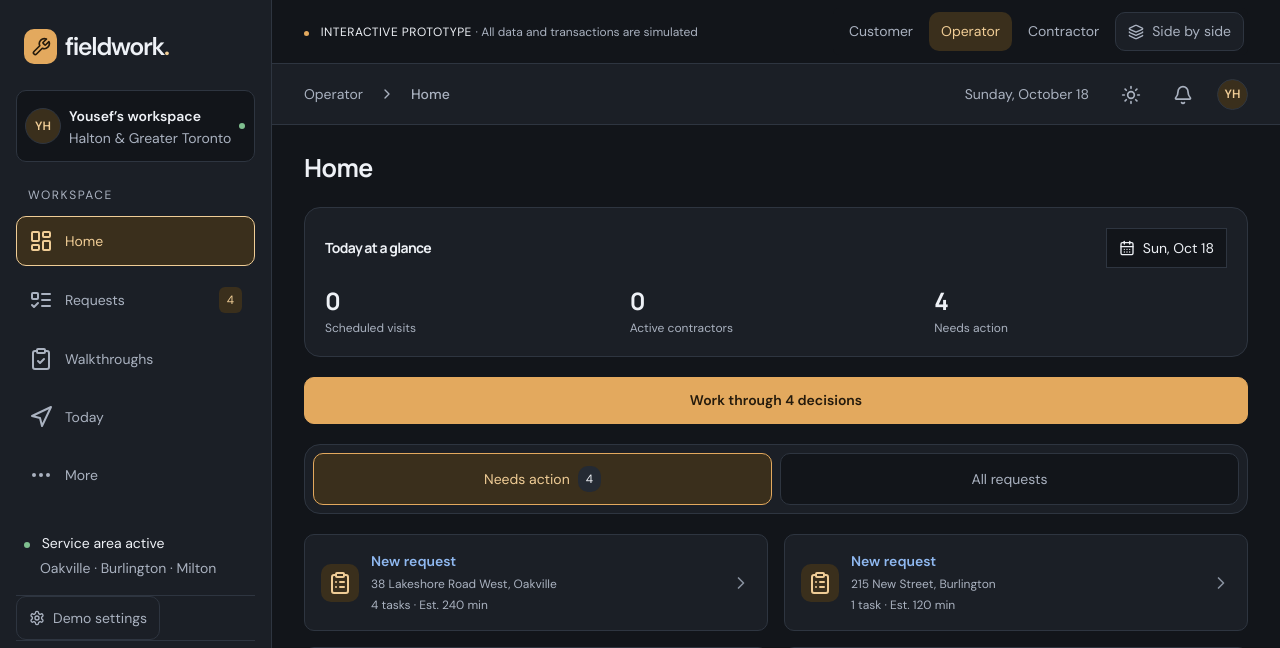
Test case: Operator workspace › moves to the next scheduled day and focuses its heading
The width and height of the screenshot is (1280, 648).
Click the button "Today". click: (136, 417)
box: [16, 392, 255, 442]
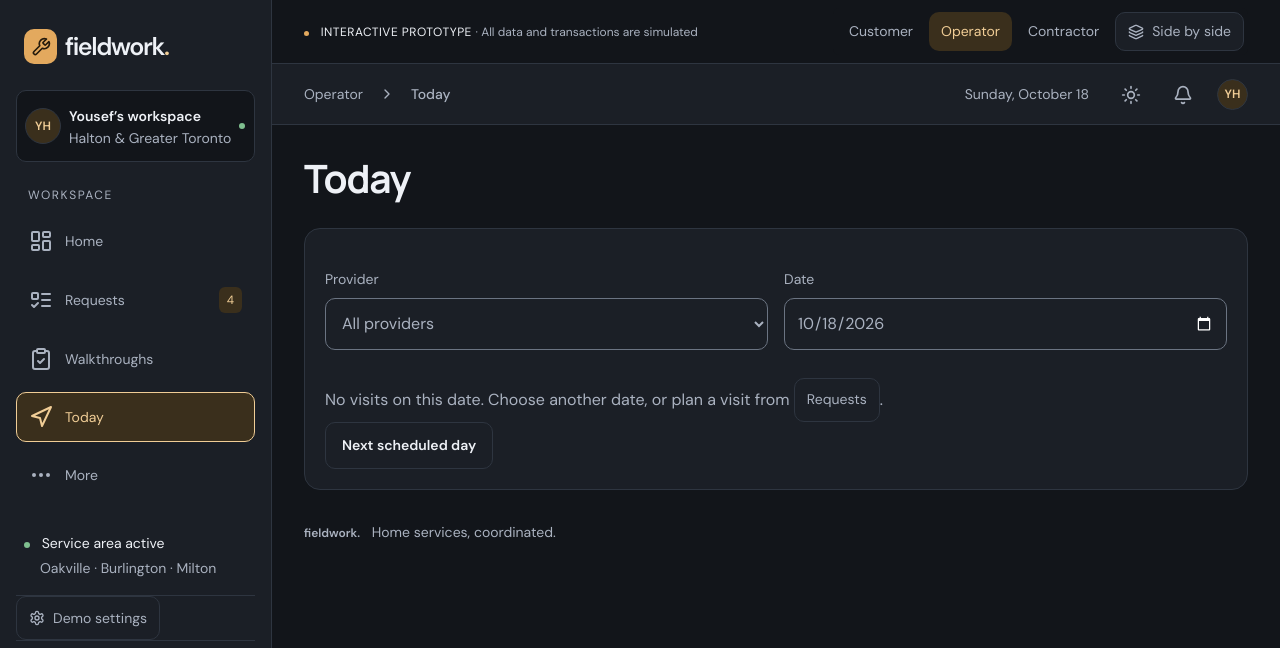
Now the text "No visits on this date" is shown, box [325, 388, 790, 409]
Click the button "Next scheduled day". click: (409, 445)
box: [325, 422, 493, 469]
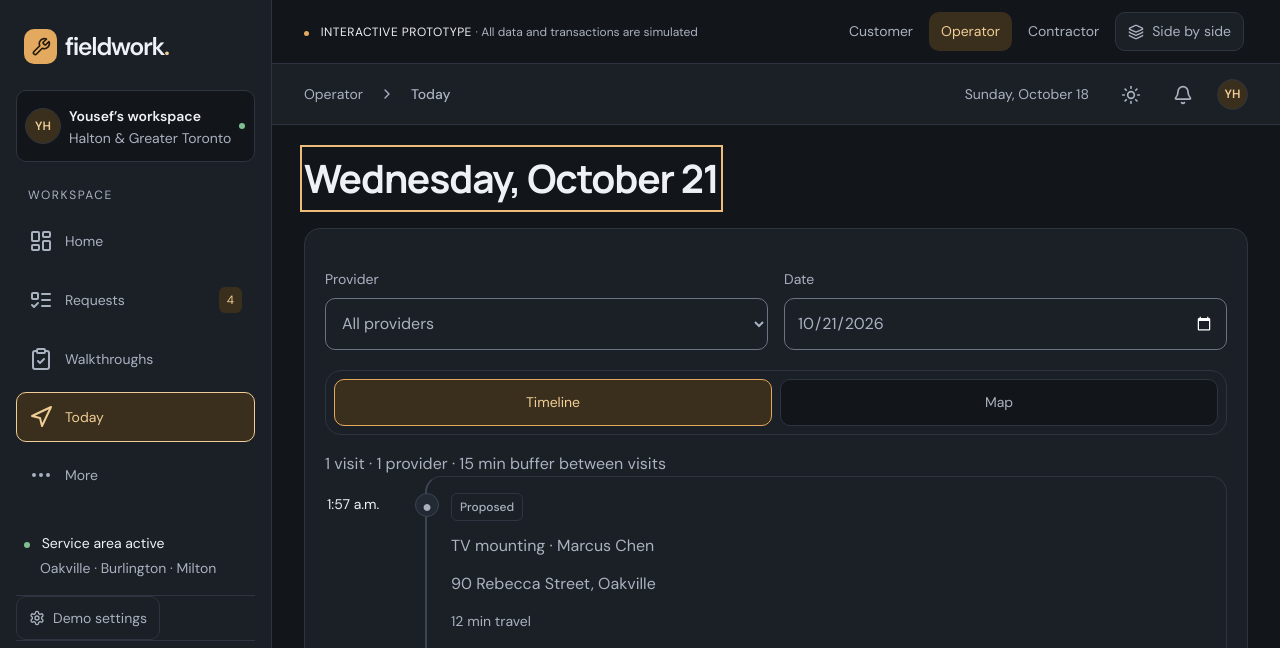
Now the button "Next scheduled day" is gone
